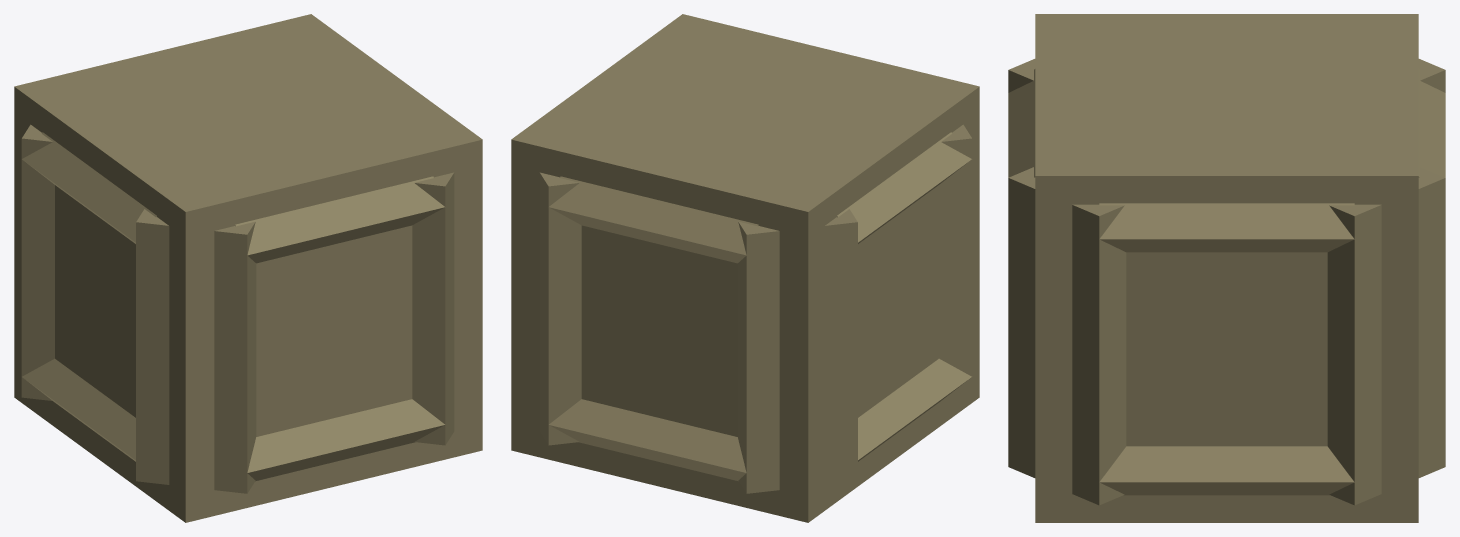
File: building3.fbx
The picture shows the model from 3 angles, left to right: view 1: azimuth 30°, elevation 25°; view 2: azimuth 150°, elevation 25°; view 3: azimuth 270°, elevation 25°; orthographic projection. The views are drawn at different scales.
Visible parts, largest first — view 1: Block; view 2: Block; view 3: Block.
Boxes of the visible parts, <box> form: Block: <box>14,14,482,522</box>; Block: <box>511,14,979,522</box>; Block: <box>1008,14,1445,522</box>.
Size of the model in its own units: 6.85 by 6.85 by 6.
